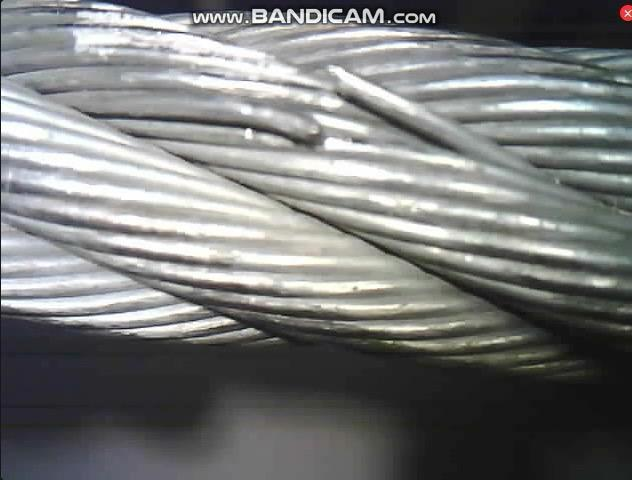break: (287, 66, 364, 147)
